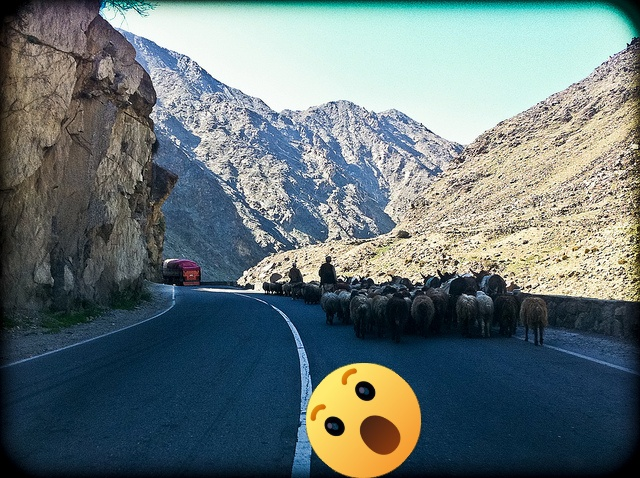wow: (306, 363, 421, 478)
